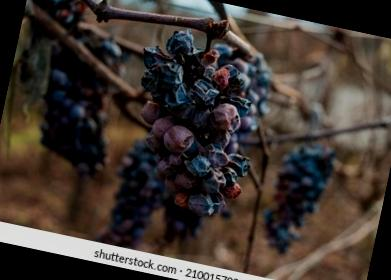Grape Rotten: (110, 20, 280, 226), (255, 136, 338, 262)
